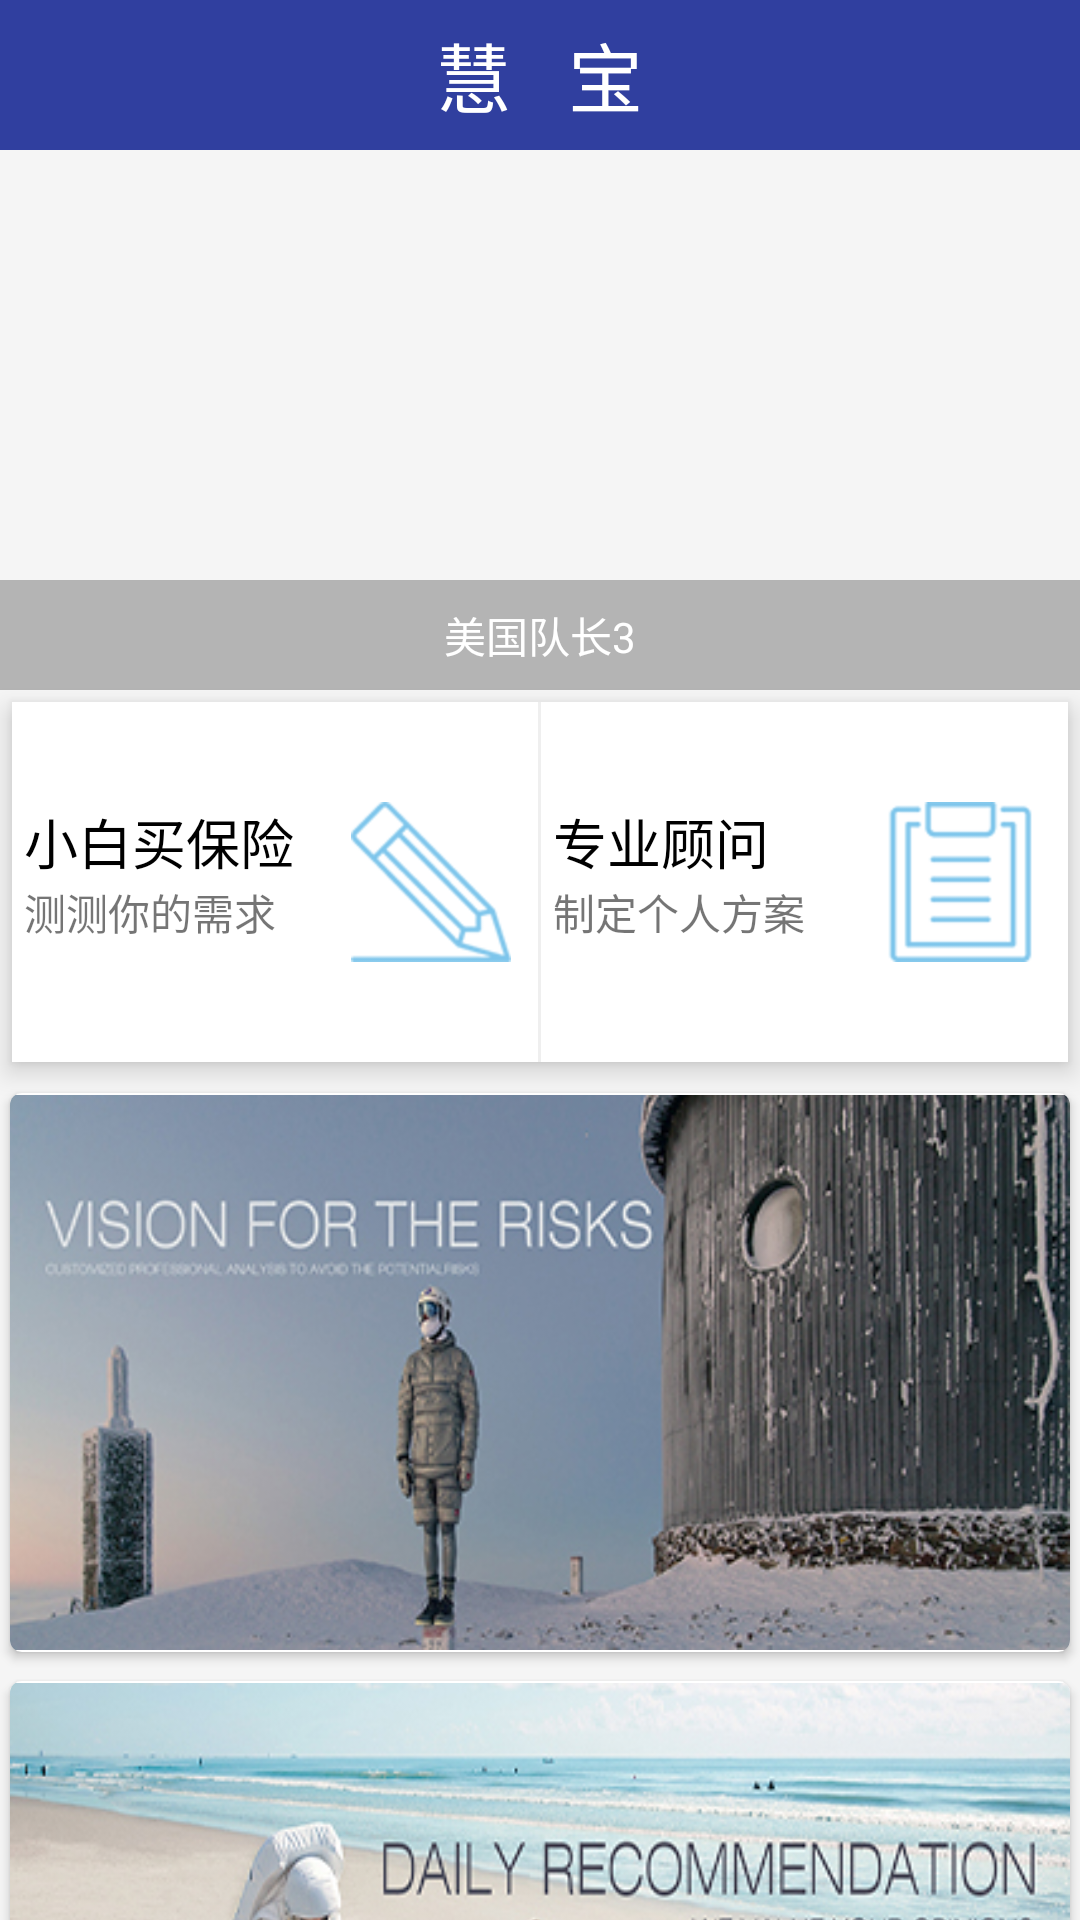

Icons on this 1080 × 1920 Android screen, each with the point to tap as point (x, y):
ceping: point (431, 882)
